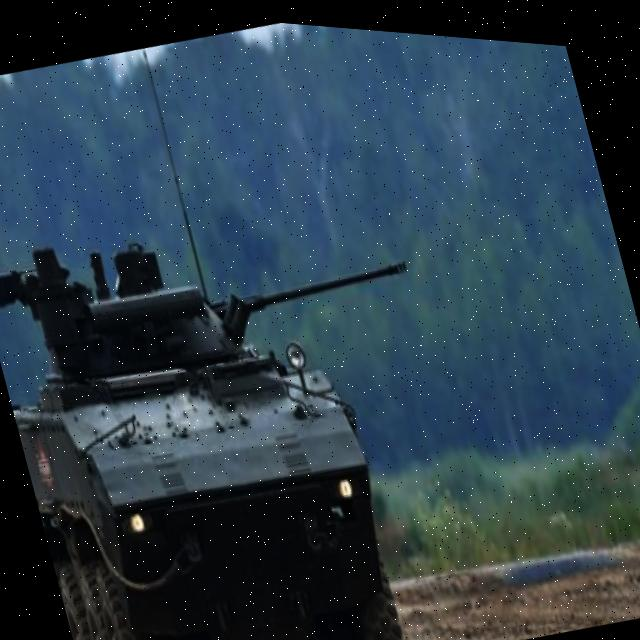MIL_APC: (0, 164, 451, 640)
